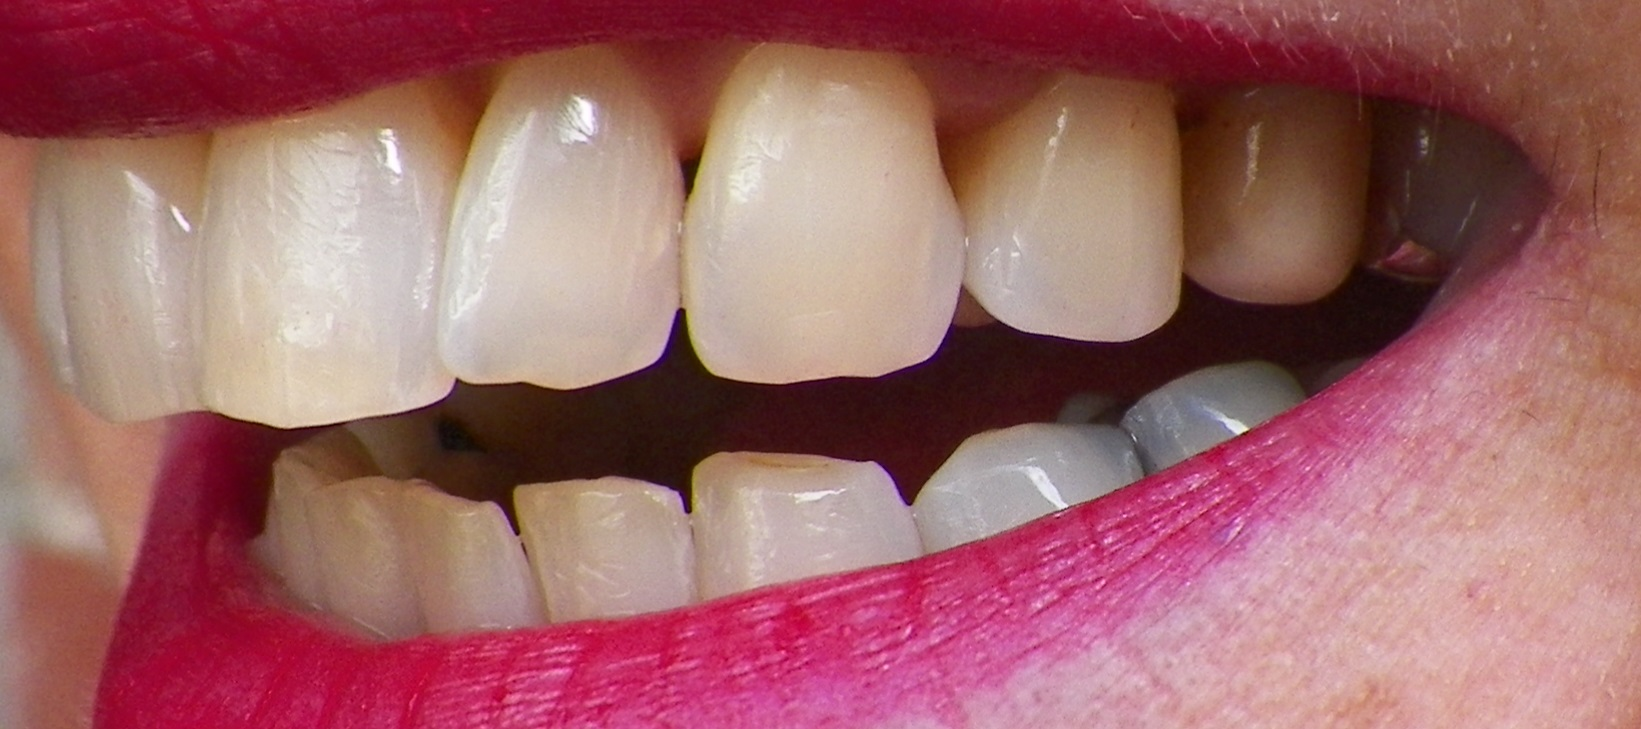boca: (32, 68, 1509, 624)
